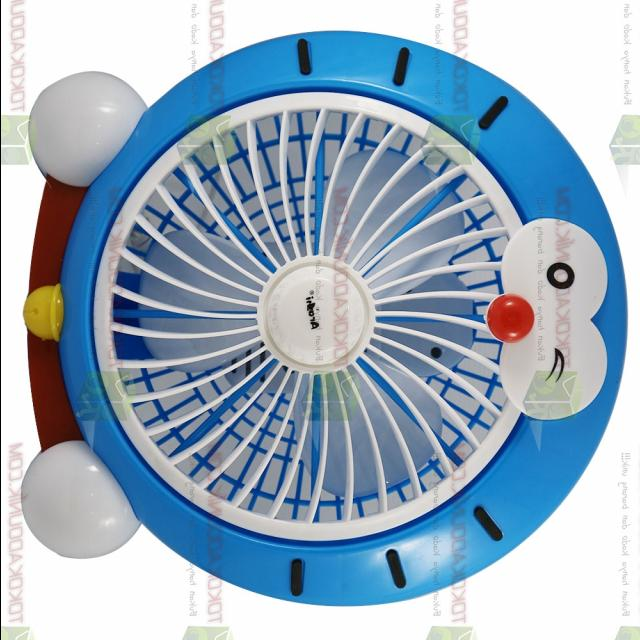fan: (16, 26, 634, 614)
